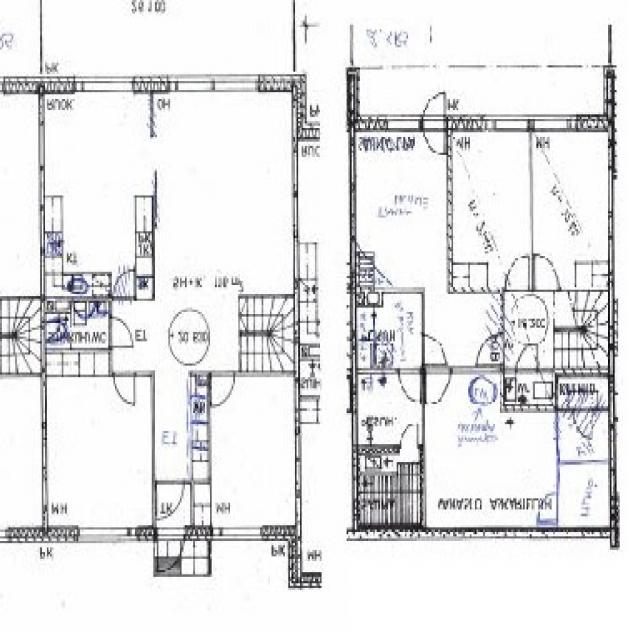door: (157, 526, 184, 576), (158, 478, 184, 520), (422, 85, 445, 131), (422, 115, 445, 161), (427, 368, 452, 407), (529, 492, 558, 525), (535, 255, 560, 293), (108, 316, 136, 347), (505, 257, 529, 293), (398, 367, 421, 404), (213, 370, 236, 407), (422, 334, 449, 365), (516, 338, 538, 373), (114, 371, 136, 406), (399, 417, 418, 451)
